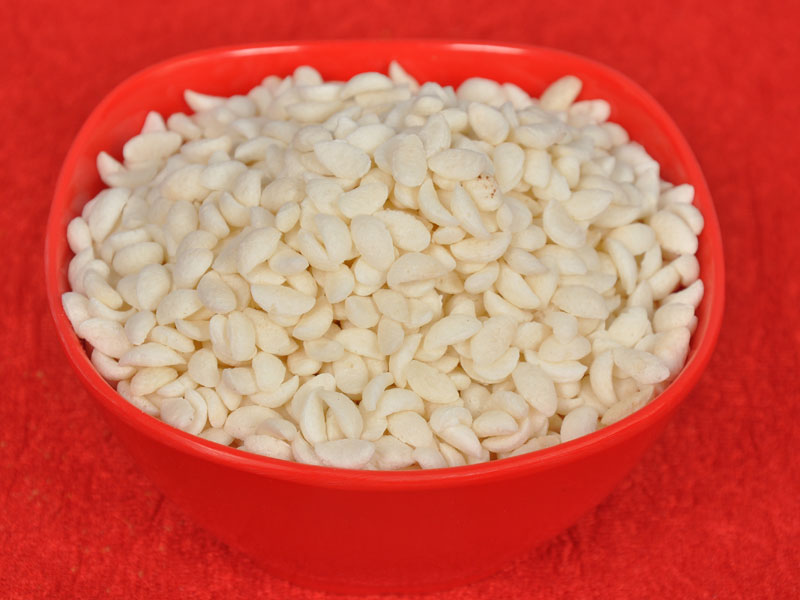plain rice: (186, 142, 576, 382)
